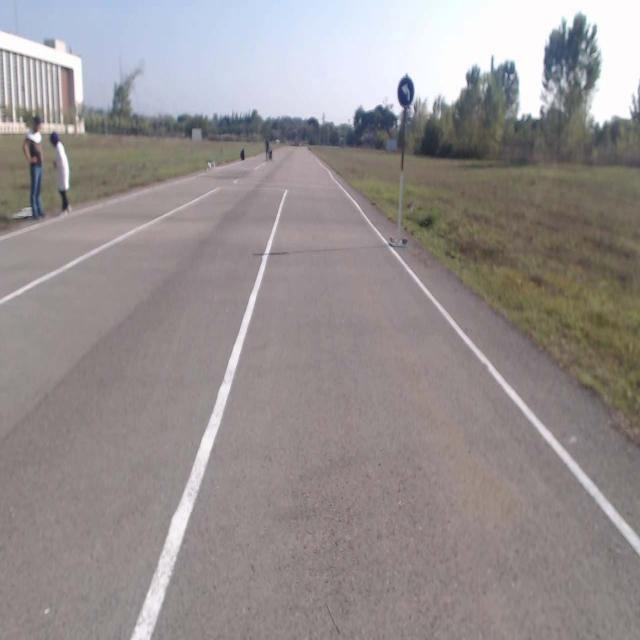sol: (398, 74, 414, 107)
